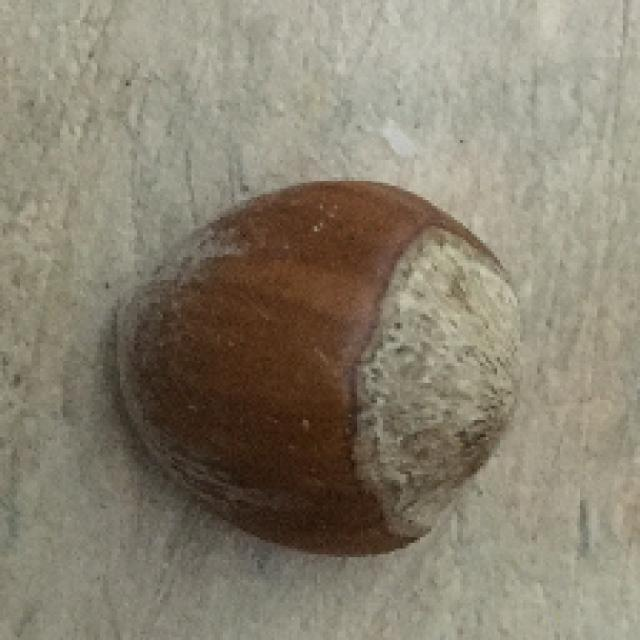QualityHazelnut: (118, 181, 520, 551)
